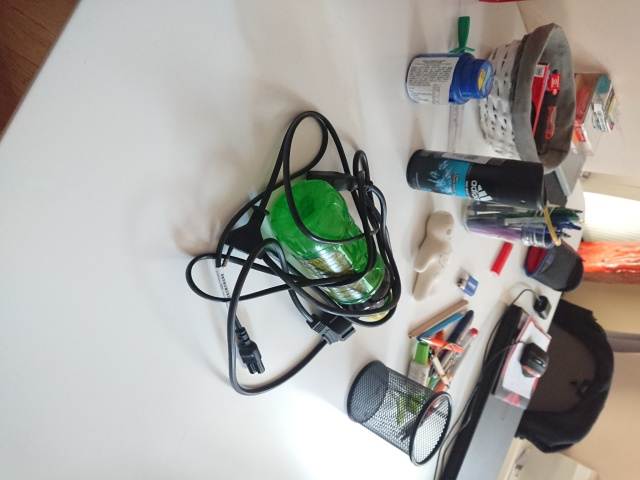Vindi Iso Sport Lemon-Grapefruit 500mL: (265, 176, 395, 322)
